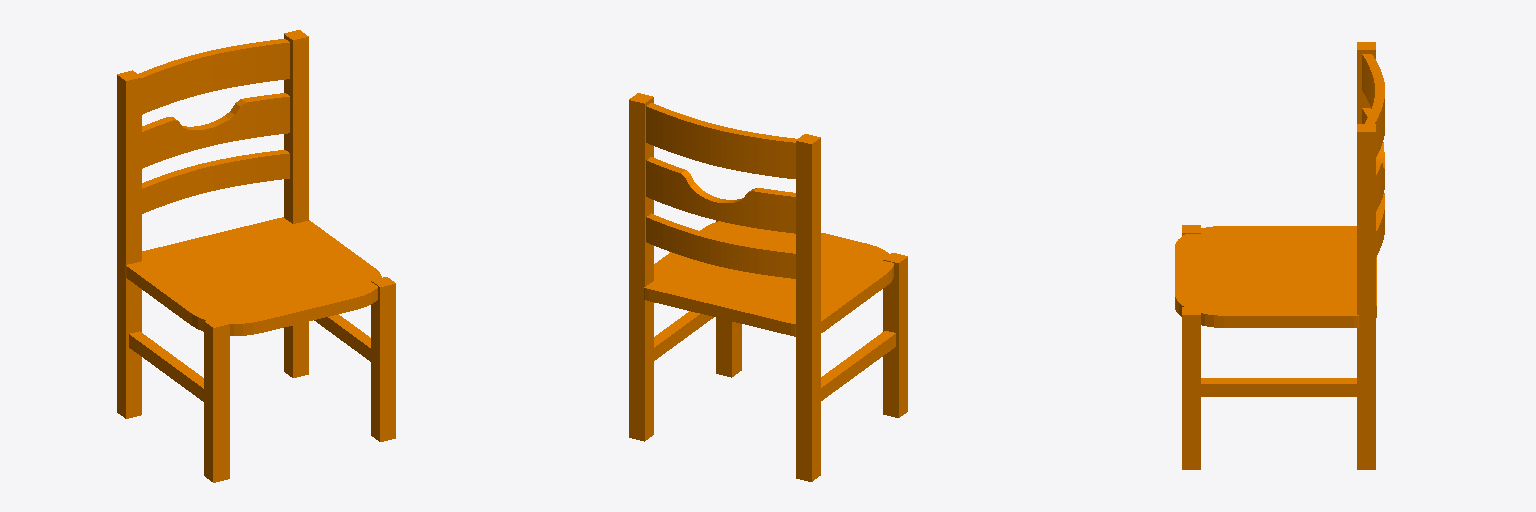
Rendered from chair.obj.
3 renders of one model, left to right at view 1: azimuth 30°, elevation 25°; view 2: azimuth 150°, elevation 25°; view 3: azimuth 270°, elevation 25°, orthographic.
Parts seen in each view (by area): view 1: chair130403a1; view 2: chair130403a1; view 3: chair130403a1.
Part boxes in pixels (x1,y1,x2,y2): chair130403a1: (117,30,395,482); chair130403a1: (629,93,907,481); chair130403a1: (1175,42,1384,469).
Size of the model in its own units: 0.3978 by 0.6975 by 0.3942.